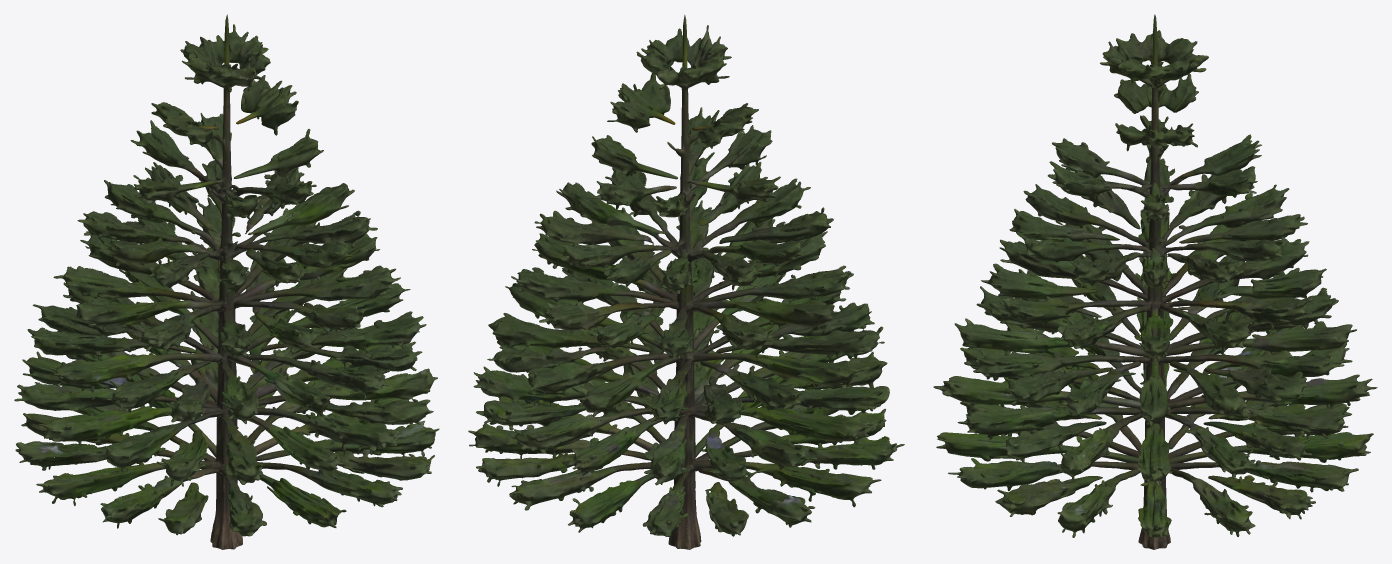
File: pine_tree_3D.glb
The picture shows the model from 3 angles, left to right: view 1: azimuth 30°, elevation 25°; view 2: azimuth 150°, elevation 25°; view 3: azimuth 270°, elevation 25°; orthographic projection.
Size of the model in its own units: 0.7555 by 0.9986 by 0.7596.
1 material, 1 textured.
